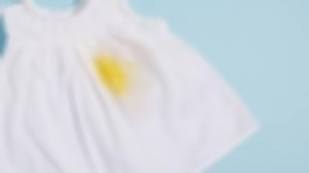mustard: (91, 49, 128, 98)
